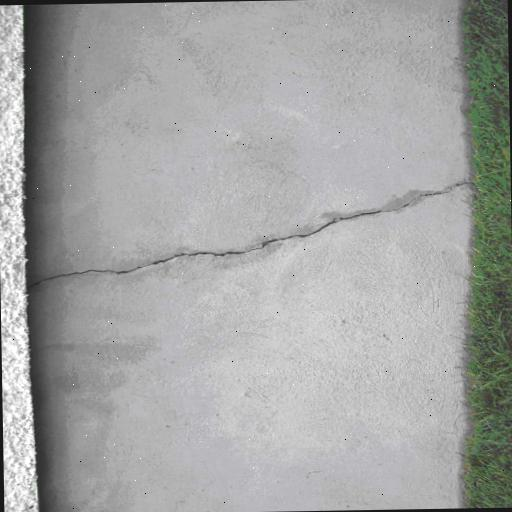spalling: (38, 178, 466, 287)
